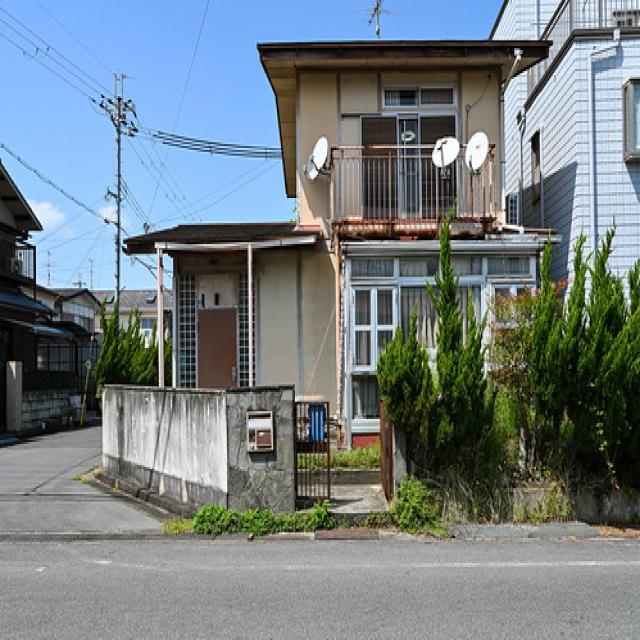Normal_building: (93, 32, 560, 537)
